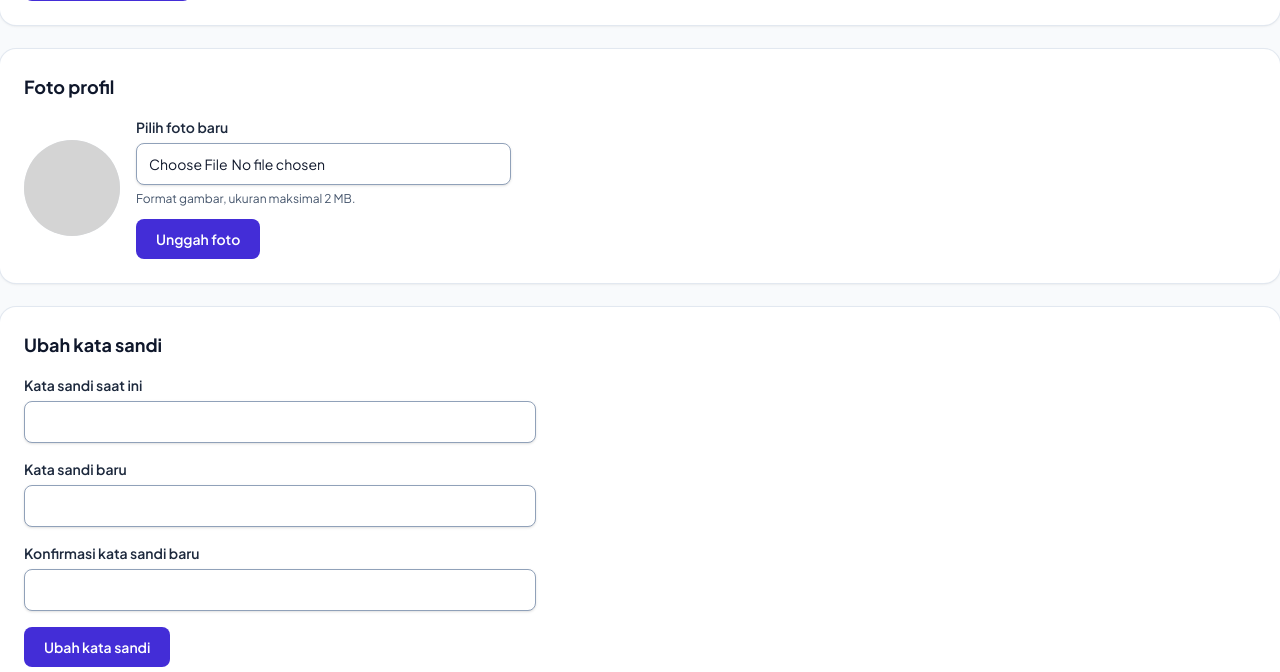
Test: ProfilePage › PasswordSection › should show validation errors for invalid password fields
(page scrolled)
Step 1. Click the button "Ubah kata sandi" → x=97, y=647, box 24,627 -> 170,667
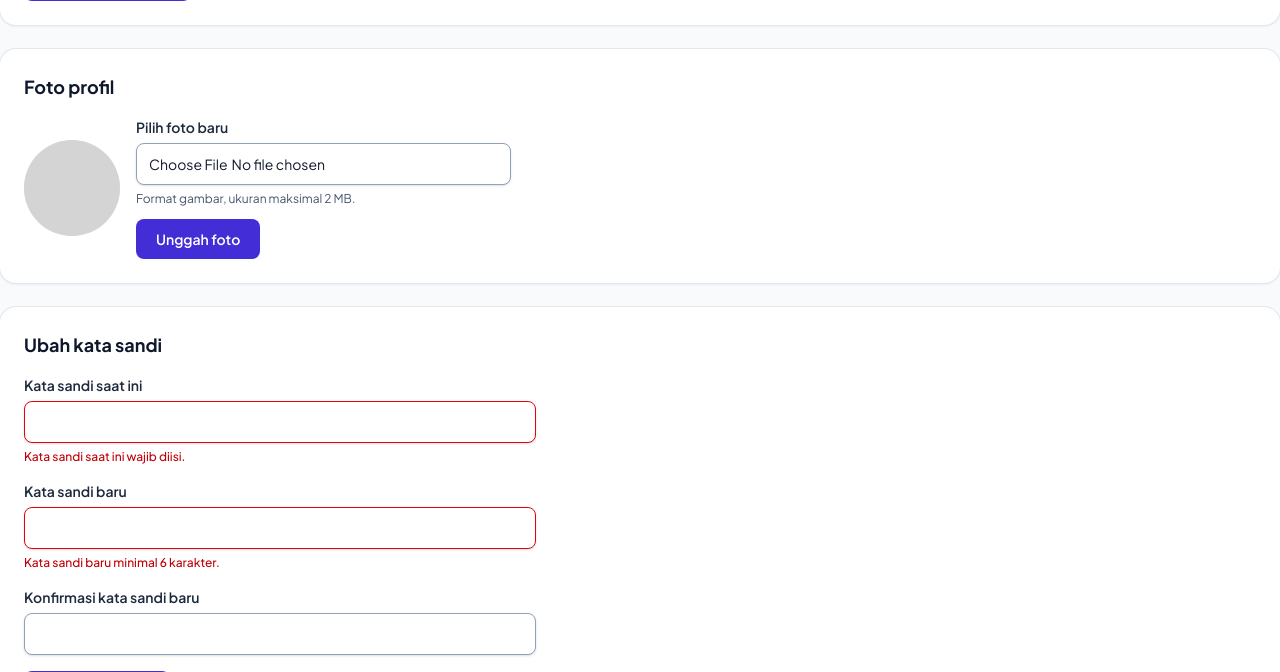
expect the text "Kata sandi saat ini wajib diisi." is shown: met, box 24,449 -> 185,464
expect the text "Kata sandi baru minimal 6 karakter." is shown: met, box 24,555 -> 220,570
